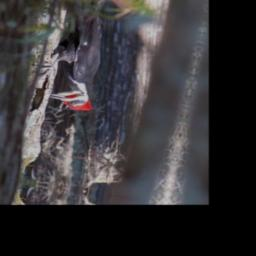Woodpecker: (24, 0, 119, 113)
